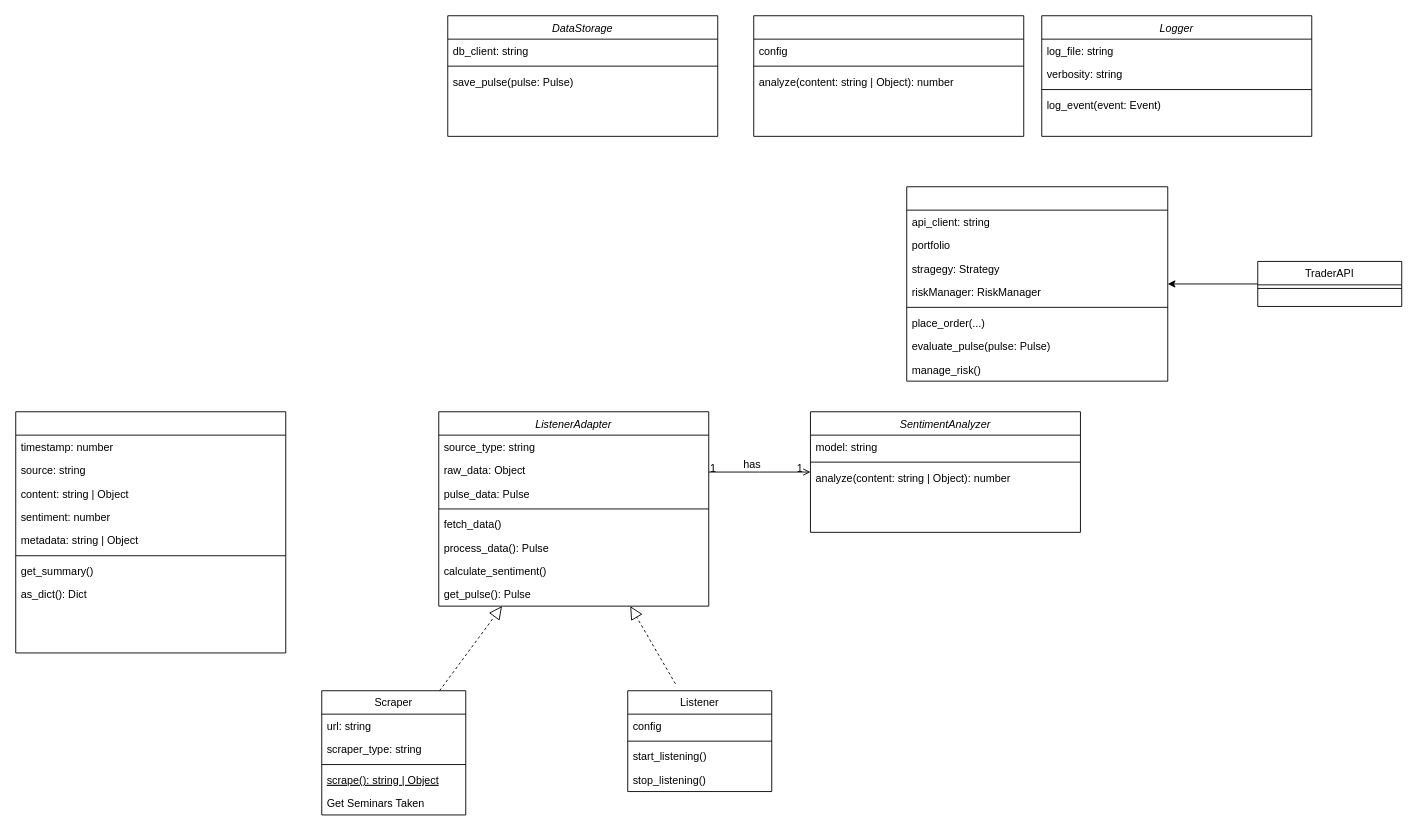
Some shapes in this 1418 by 833 pixel diagram are drawn without their labels. The box of each missing label's shape, as (x1, y1, x2, y2) in pixels:
Messager: (753, 15, 1024, 136)
Pulse: (15, 411, 286, 653)
TradeManager: (906, 186, 1168, 381)
